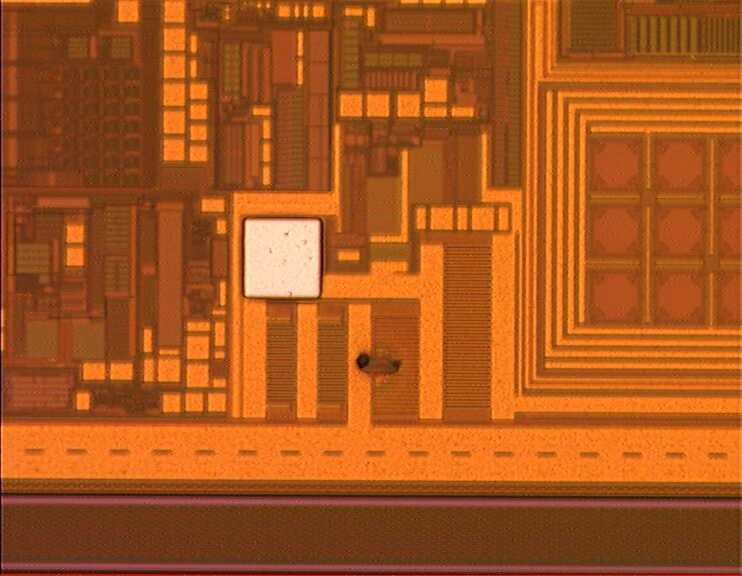PIQ PARTICLE: (348, 335, 408, 395)
